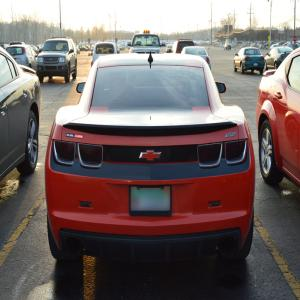Vehicle-registration-plate: (130, 186, 172, 218)
